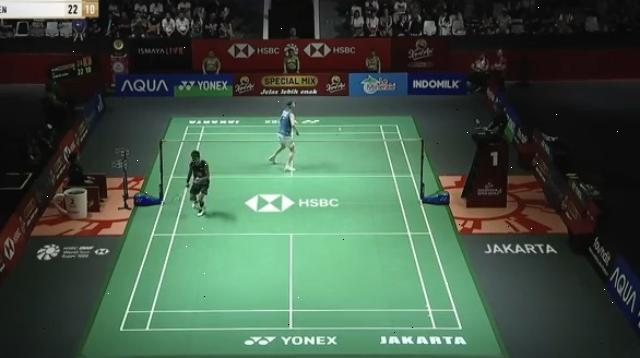Shuttlecock: (336, 123, 346, 133)
